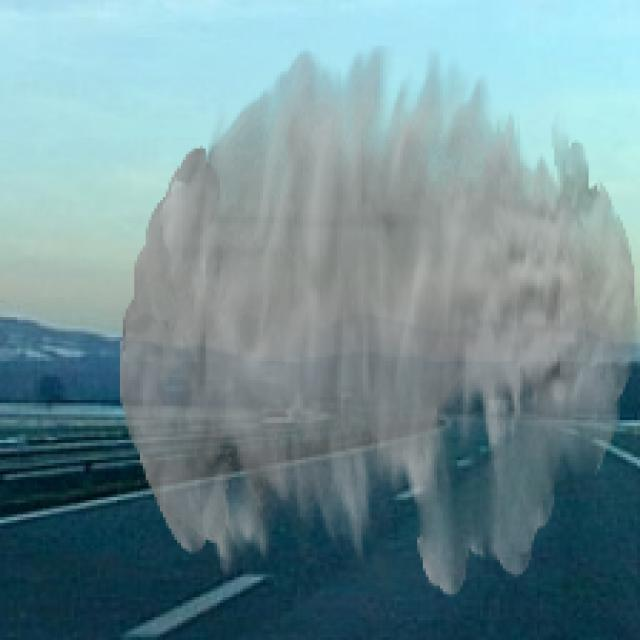smoke: (120, 46, 637, 597)
